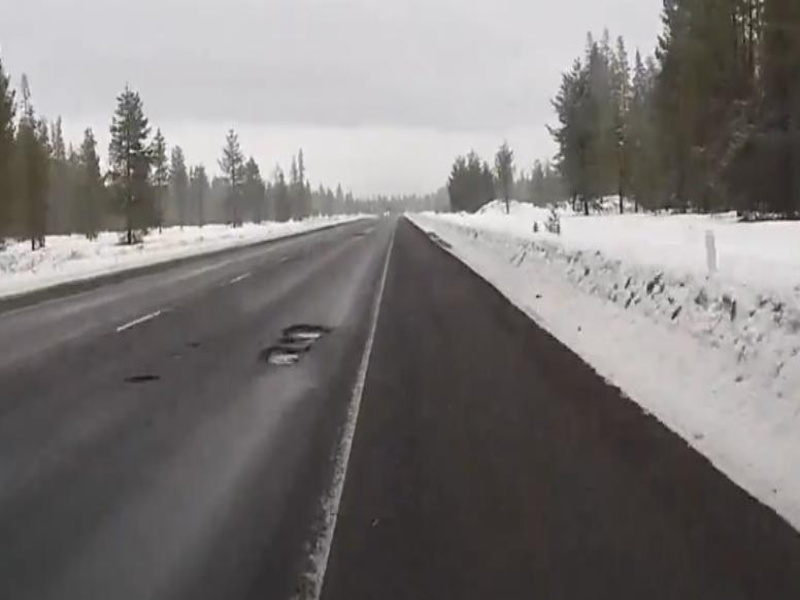pothole: (255, 349, 305, 370), (281, 324, 327, 343)
